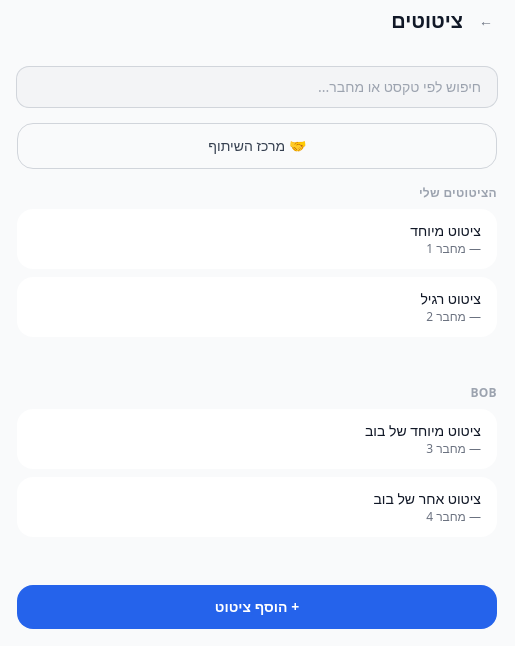
Citations Sections by Creator › filters within each section when search is active (both sections remain visible with matching citations)
The image size is (515, 646).
expect the heading "הציטוטים שלי" is shown: met, box [419,184,497,201]
In the field with placeholder "חיפוש לפי טקסט או מחבר...": (257, 87) [17,67,497,107], type "מיוחד"
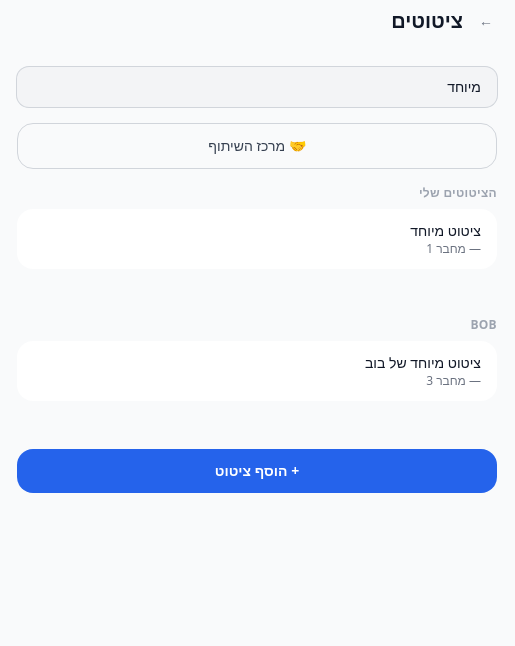
expect the heading "הציטוטים שלי" is shown: met, box [419,184,497,201]
expect the button "ציטוט רגיל" is gone: met
expect the button "ציטוט אחר של בוב" is gone: met
